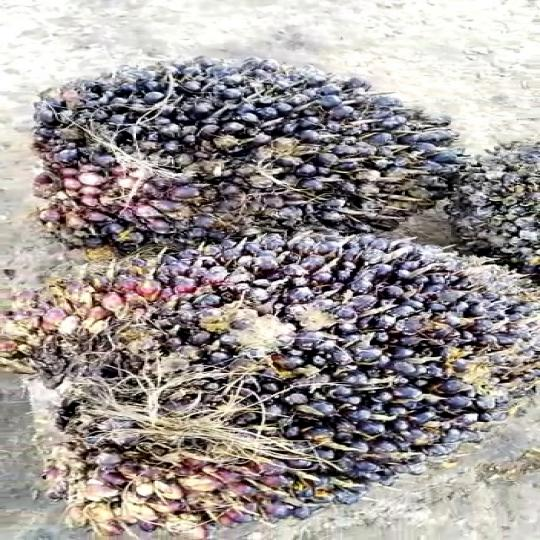mentah: (0, 228, 540, 540), (26, 51, 466, 249)
